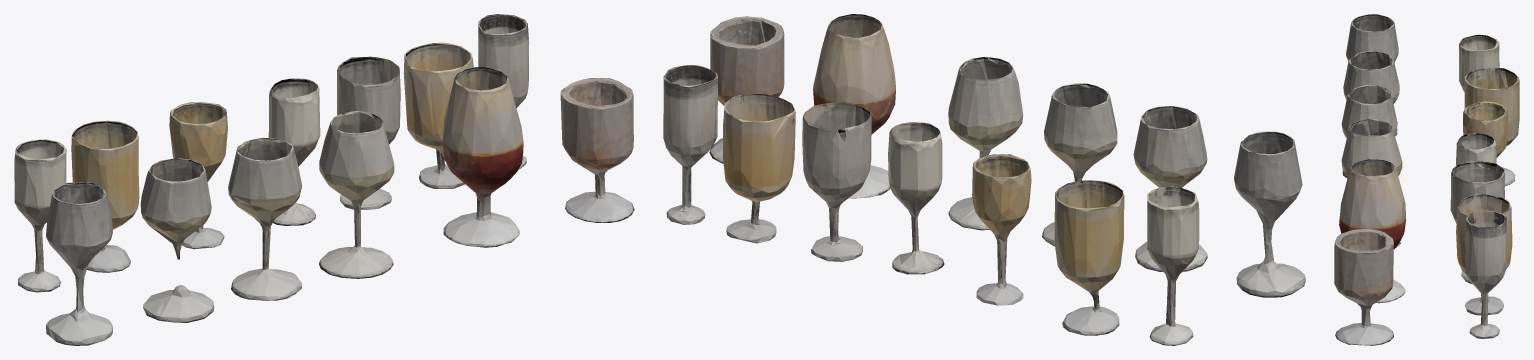
Rendered from wine_glasses_row.glb.
3 renders of one model, left to right at view 1: azimuth 30°, elevation 25°; view 2: azimuth 150°, elevation 25°; view 3: azimuth 270°, elevation 25°, orthographic. The views are drawn at different scales.
Parts seen in each view (by area): view 1: geometry_0; view 2: geometry_0; view 3: geometry_0.
Part boxes in pixels (x1,y1,x2,y2): geometry_0: (14,14,634,345); geometry_0: (663,14,1305,345); geometry_0: (1334,14,1519,345).
Bounding box in the file's own units: 0.9996 × 0.271 × 0.3488.
Materials: 1 (1 with a texture image).
